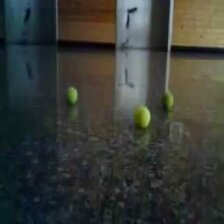tennis: (134, 106, 150, 130), (65, 86, 78, 106), (162, 93, 174, 111)
